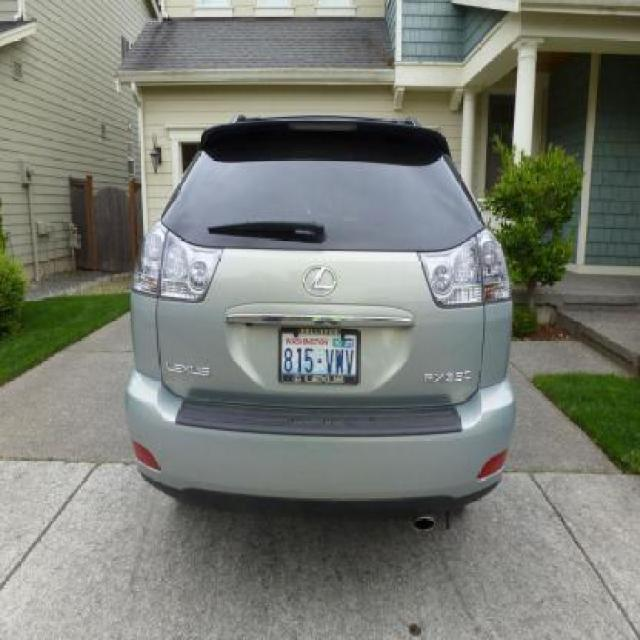License-Plates: (271, 323, 362, 388)
